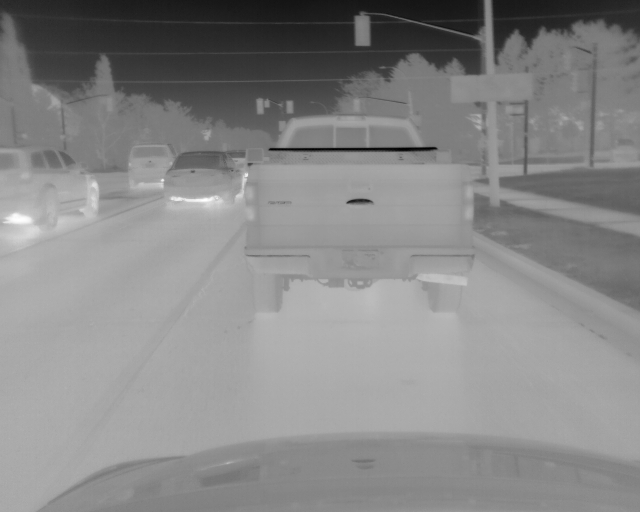car: (242, 114, 474, 313), (2, 145, 100, 230), (163, 149, 246, 204), (125, 142, 180, 190)
